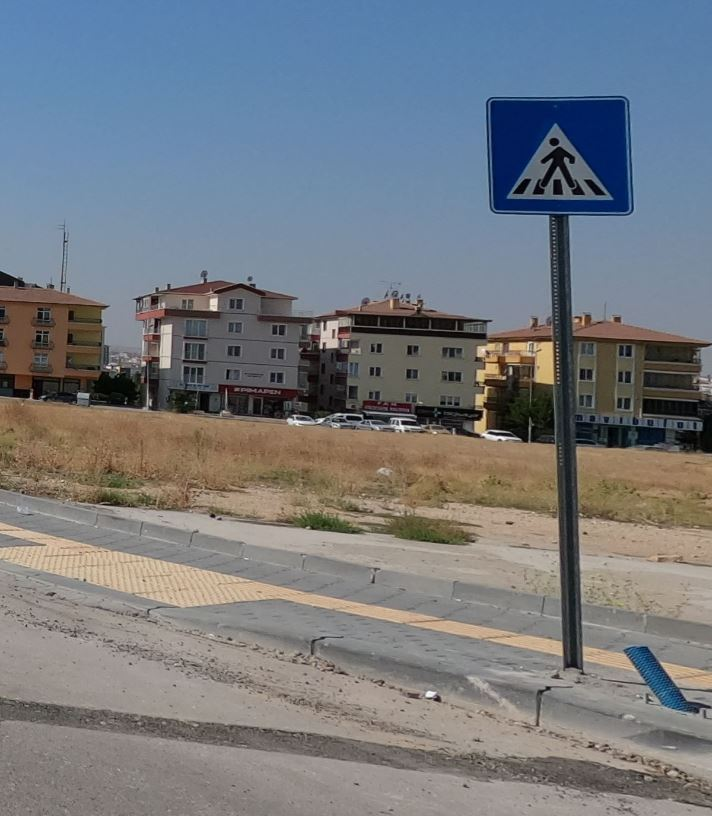Yaya Gecidi: (493, 92, 621, 220)
